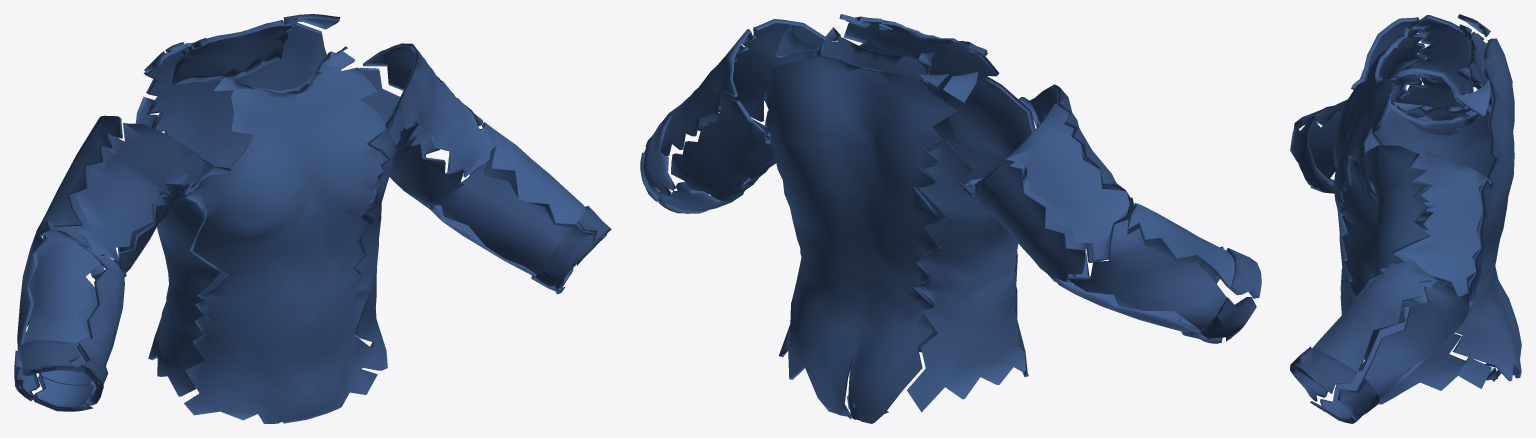
The model's file is jacket-denim-v1.glb.
The picture shows the model from 3 angles, left to right: view 1: azimuth 30°, elevation 25°; view 2: azimuth 150°, elevation 25°; view 3: azimuth 270°, elevation 25°; orthographic projection. The views are drawn at different scales.
Visible parts, largest first — view 1: jacket_body, jacket_sleeve_R, jacket_sleeve_L, jacket_collar, jacket_cuff_R, jacket_cuff_L; view 2: jacket_body, jacket_sleeve_R, jacket_sleeve_L, jacket_cuff_R, jacket_collar; view 3: jacket_body, jacket_sleeve_L, jacket_sleeve_R, jacket_cuff_L, jacket_cuff_R, jacket_collar.
Part boxes in pixels (left/top/right/bottom): jacket_body: left=135, top=14, right=395, bottom=423; jacket_sleeve_R: left=17, top=115, right=231, bottom=409; jacket_sleeve_L: left=359, top=43, right=608, bottom=290; jacket_collar: left=172, top=18, right=297, bottom=85; jacket_cuff_R: left=14, top=340, right=108, bottom=411; jacket_cuff_L: left=531, top=205, right=611, bottom=294; jacket_body: left=763, top=14, right=1035, bottom=423; jacket_sleeve_R: left=965, top=84, right=1256, bottom=338; jacket_sleeve_L: left=643, top=19, right=825, bottom=210; jacket_cuff_R: left=1180, top=246, right=1261, bottom=343; jacket_collar: left=813, top=27, right=934, bottom=88; jacket_body: left=1333, top=14, right=1521, bottom=404; jacket_sleeve_L: left=1292, top=145, right=1491, bottom=421; jacket_sleeve_R: left=1296, top=15, right=1478, bottom=182; jacket_cuff_L: left=1290, top=347, right=1379, bottom=423; jacket_cuff_R: left=1290, top=105, right=1334, bottom=193; jacket_collar: left=1458, top=24, right=1492, bottom=112.
Bounding box in the file's own units: 1.1 × 0.6289 × 0.3944.
